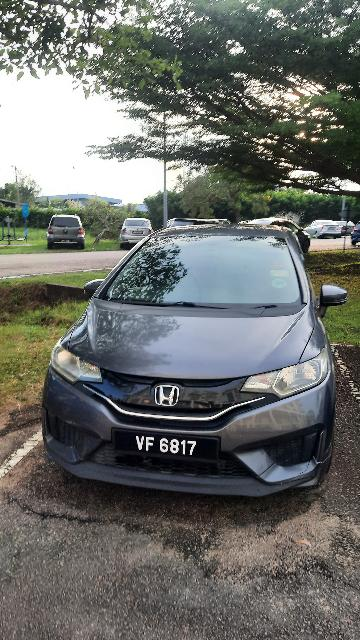License_Plate: (108, 425, 228, 469)
car: (41, 219, 349, 499)
